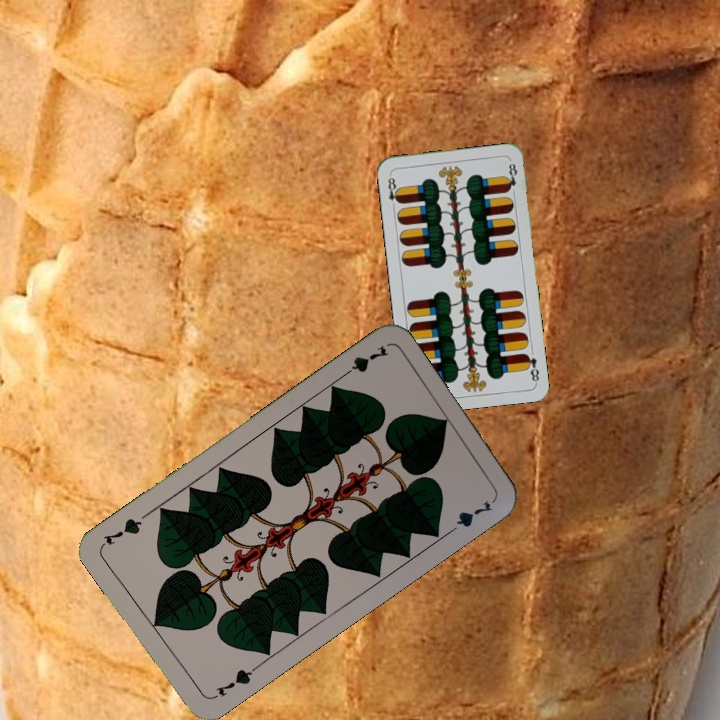E8: (384, 171, 403, 211), (521, 349, 541, 385)
G7: (336, 341, 391, 381), (207, 663, 260, 702)
